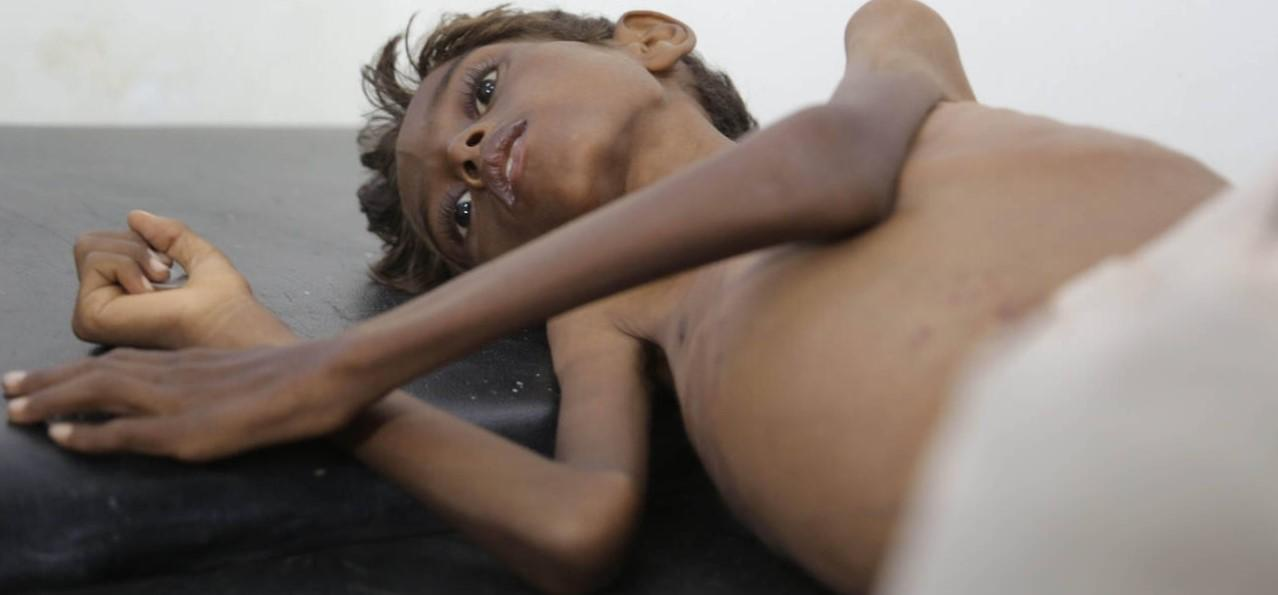Stunting: (395, 18, 687, 307)
